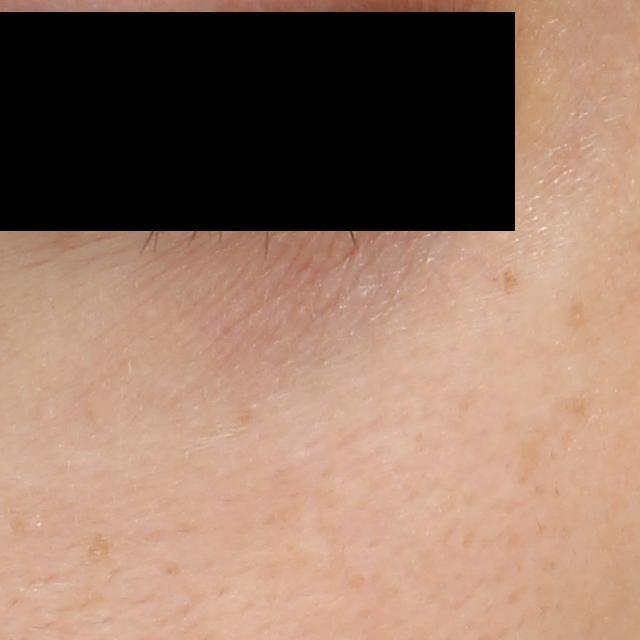melasma: (505, 393, 597, 489), (46, 206, 99, 246), (563, 296, 591, 334), (491, 264, 521, 294)
